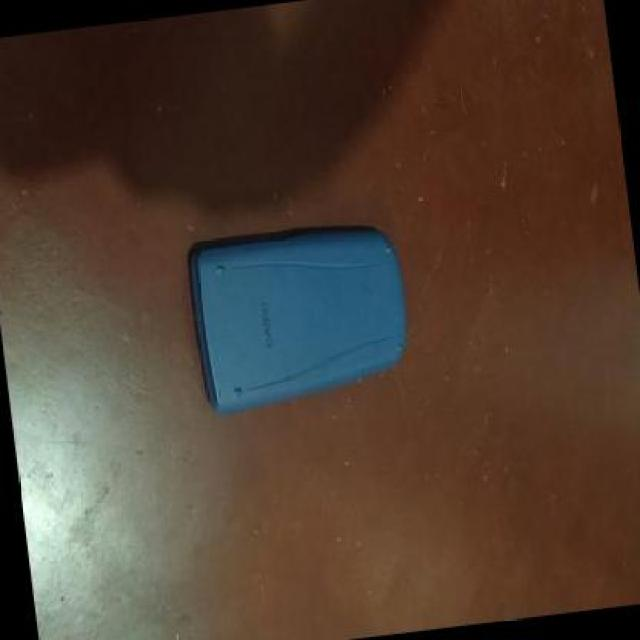Calculator: (182, 213, 420, 416)
